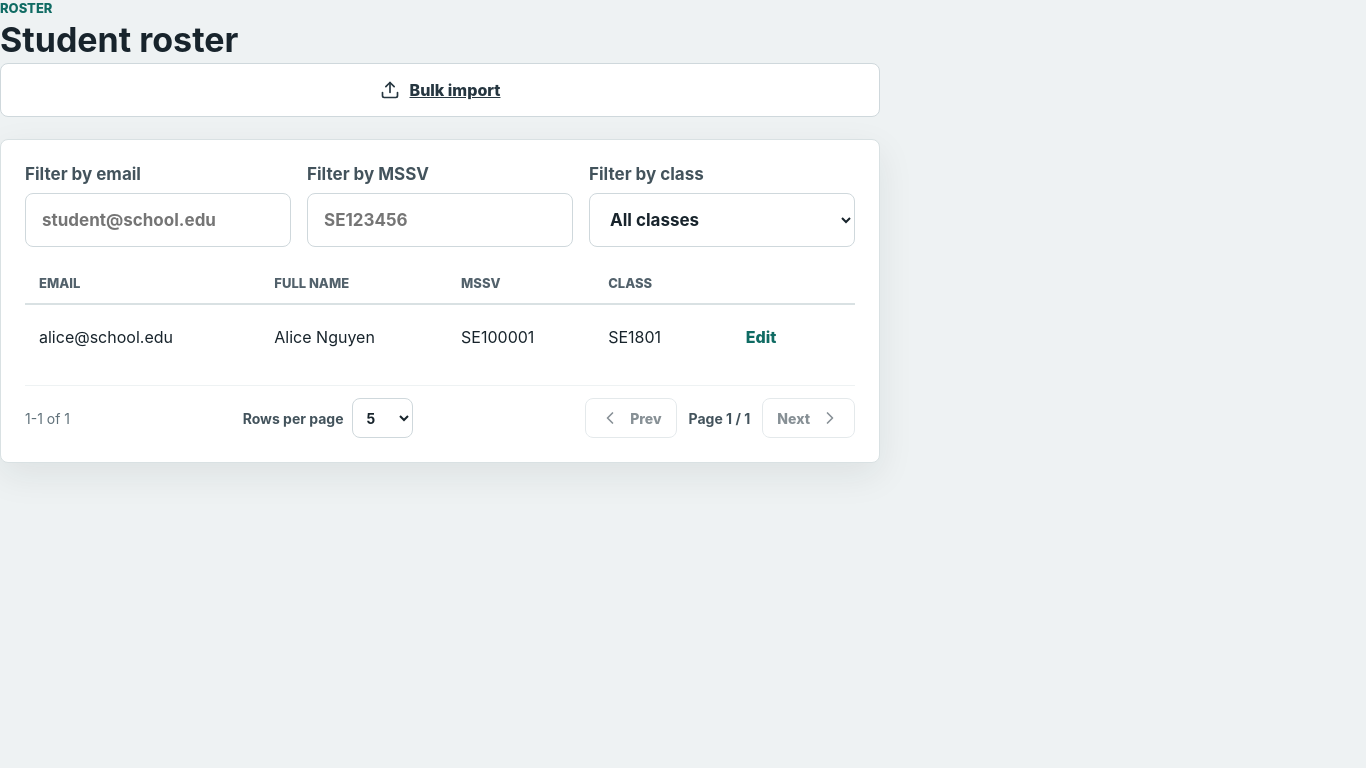
Test: RosterPage › shows a 403 error message in the modal
Expected: the text "alice@school.edu" is shown, [25, 304, 260, 369]
Click the button "Edit".
click(761, 337)  # box [726, 319, 796, 355]
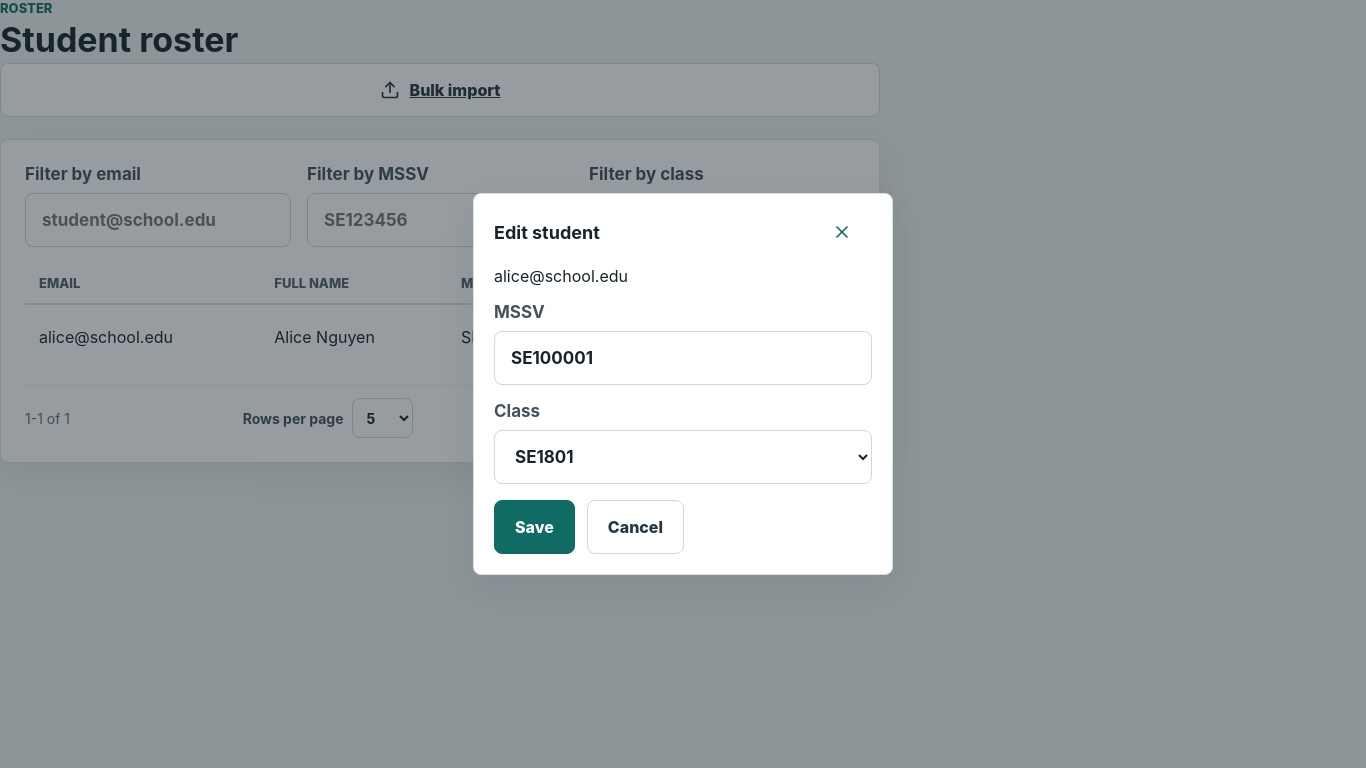
Click the button "Save".
click(534, 527)  # box [494, 500, 575, 554]
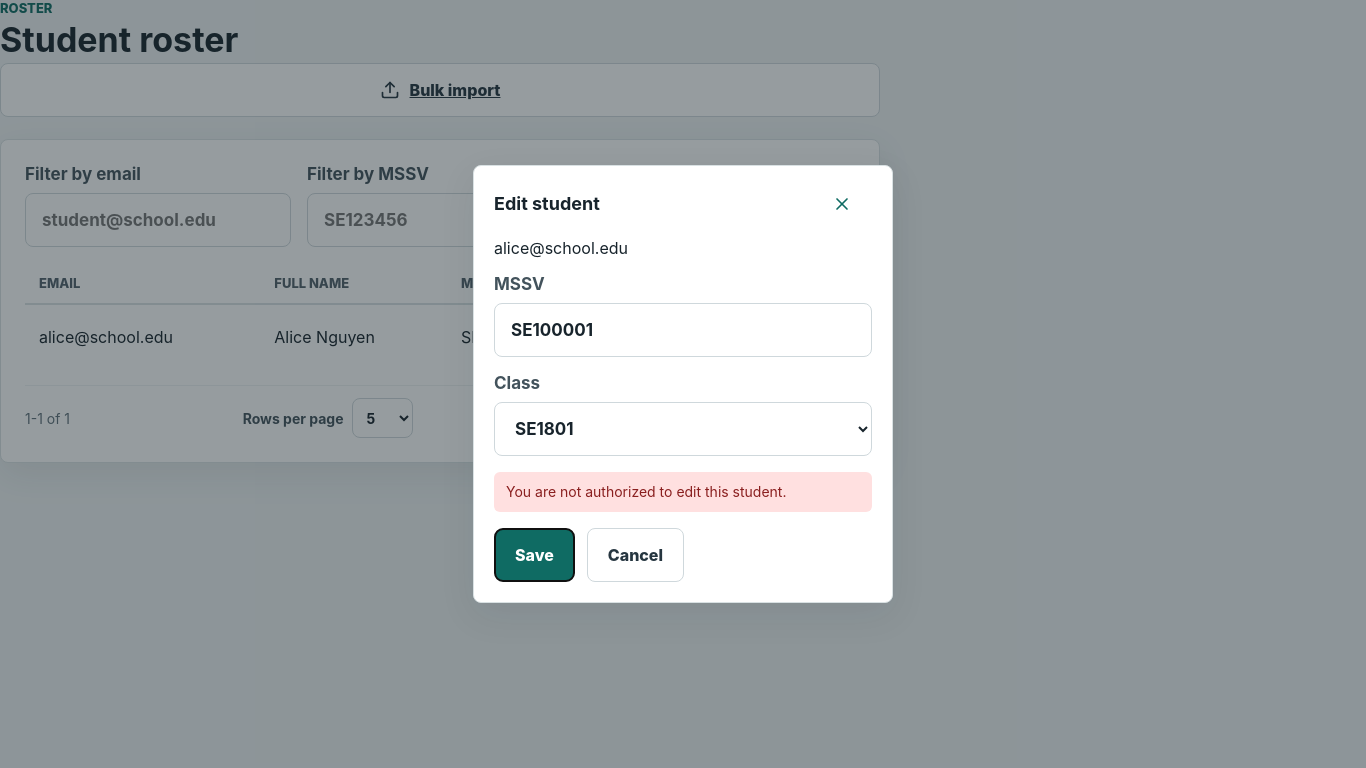
Now the text "You are not authorized to edit this student." is shown, box [494, 472, 872, 512]
